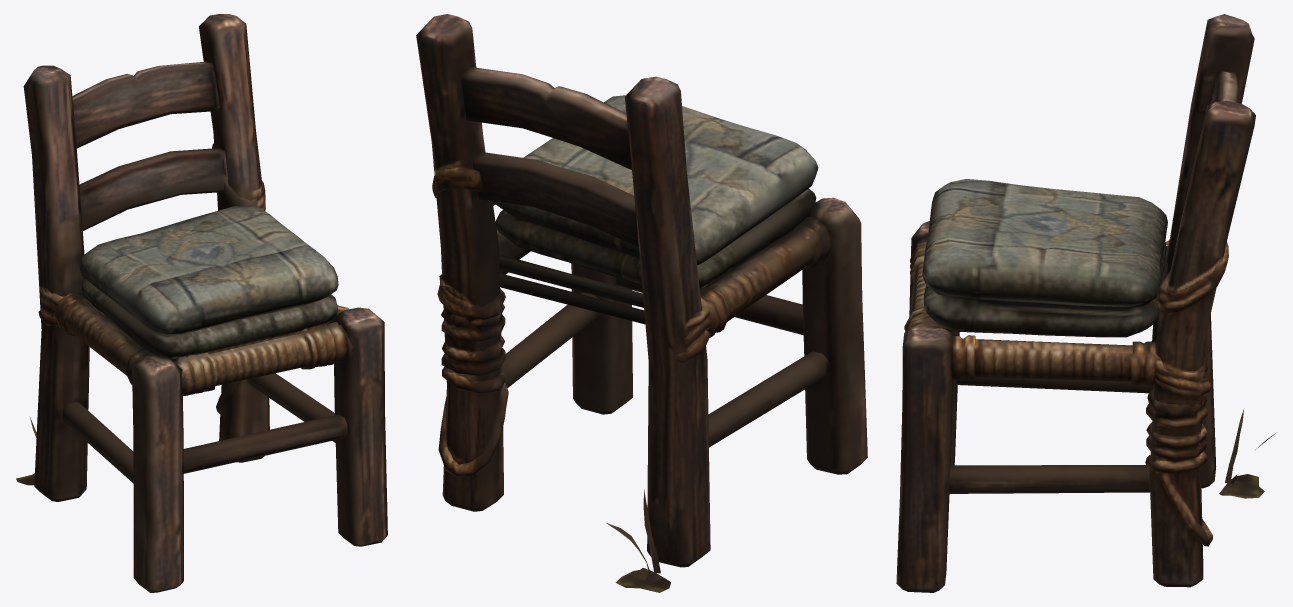
File: act1_kit_v1_vigil_chair.glb
The picture shows the model from 3 angles, left to right: view 1: azimuth 30°, elevation 25°; view 2: azimuth 150°, elevation 25°; view 3: azimuth 270°, elevation 25°; orthographic projection. The views are drawn at different scales.
Parts seen in each view (by area): view 1: act1_kit_v1_vigil_chair; view 2: act1_kit_v1_vigil_chair; view 3: act1_kit_v1_vigil_chair.
Part boxes in pixels (<box>): act1_kit_v1_vigil_chair: <box>16,14,387,592</box>; act1_kit_v1_vigil_chair: <box>416,14,867,592</box>; act1_kit_v1_vigil_chair: <box>896,14,1275,592</box>.
Size of the model in its own units: 0.5876 by 1 by 0.7204.
1 material, 1 textured.
